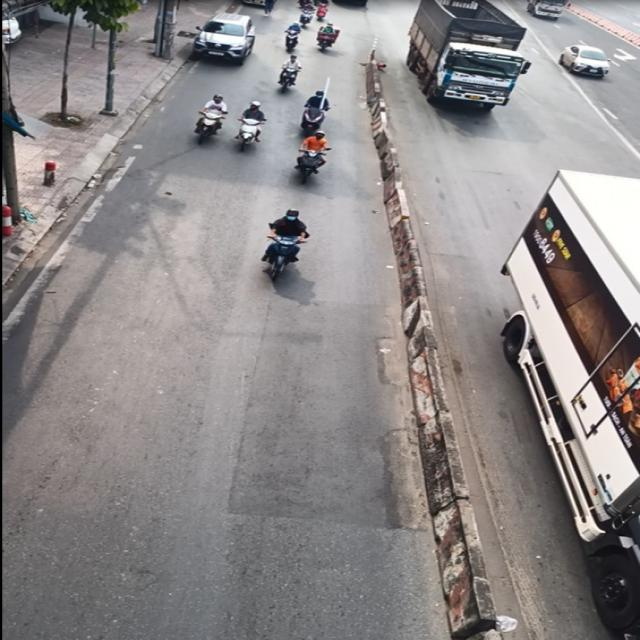car: (554, 36, 616, 84)
motorbike: (256, 200, 323, 305), (182, 88, 238, 148), (229, 99, 276, 165)
truck: (402, 0, 536, 122)
